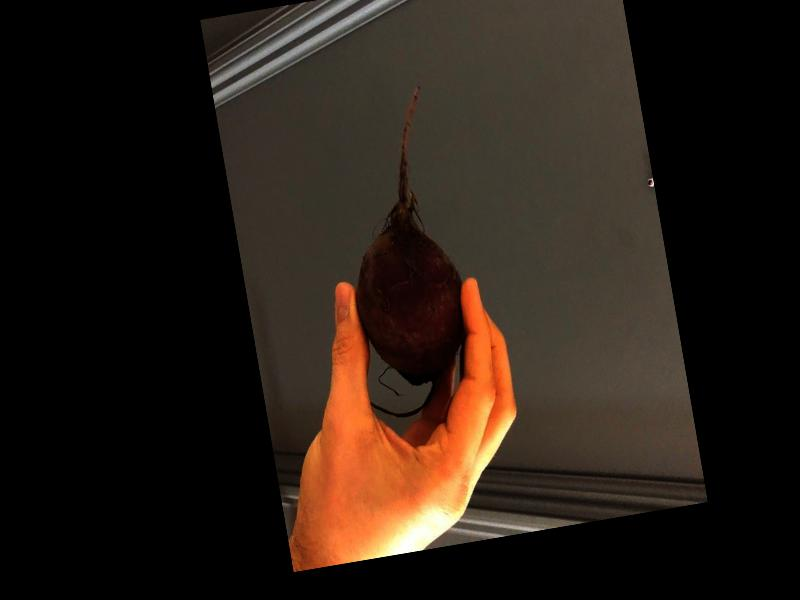Beet: (319, 78, 479, 420)
